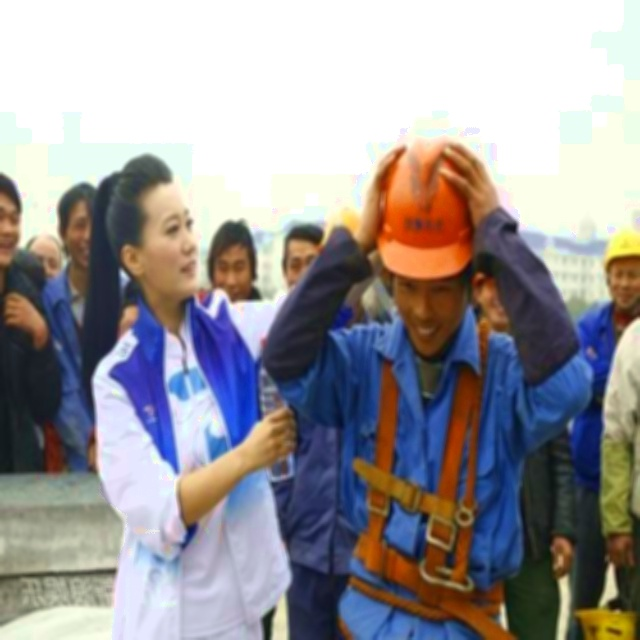Sin_Casco_Mascarrilla: (106, 154, 198, 308)
